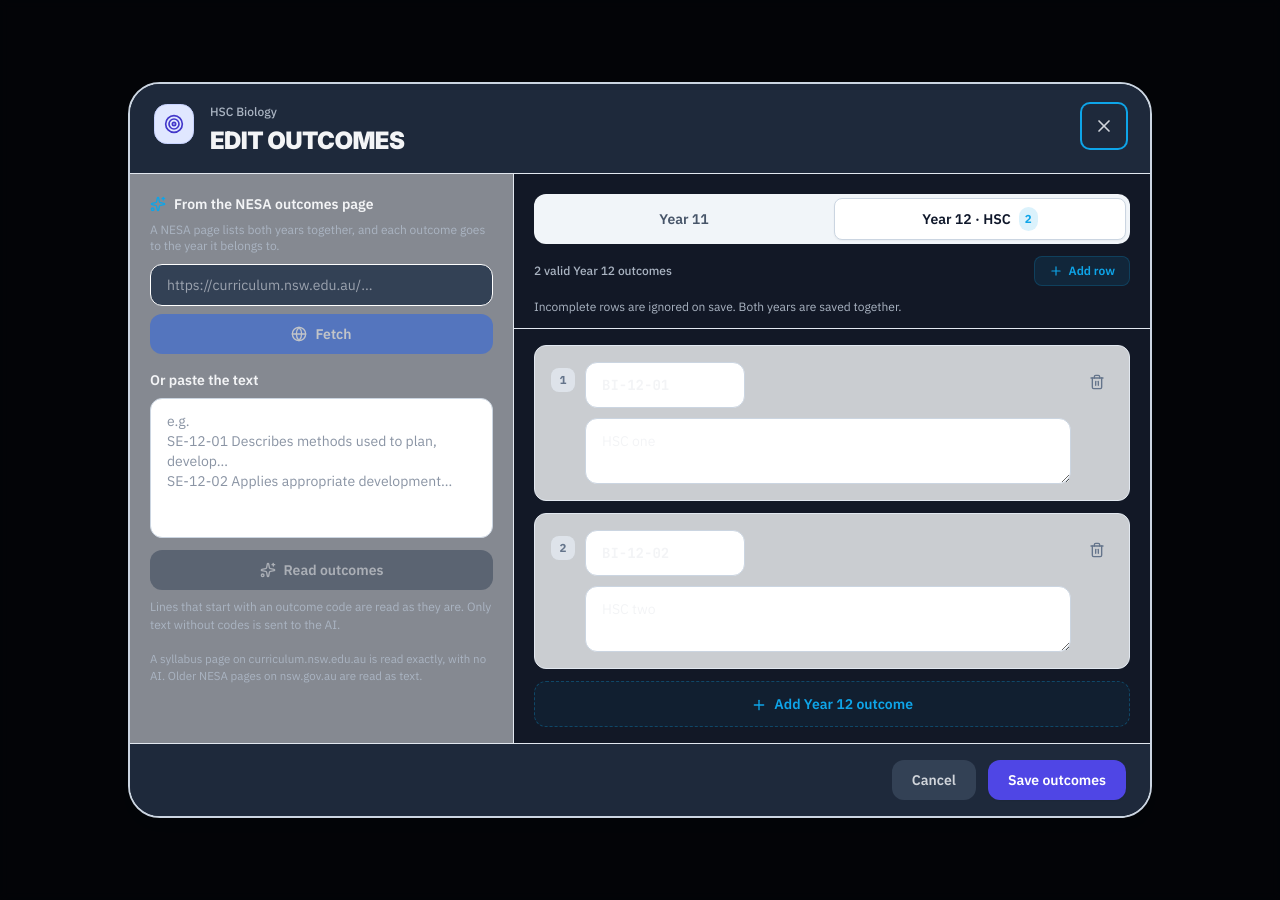
Test: editing both years of outcomes › rejects something that is not a web address before any request
Type "not a url" into the field named "Outcomes page URL" at [322, 285], box [150, 264, 493, 306]
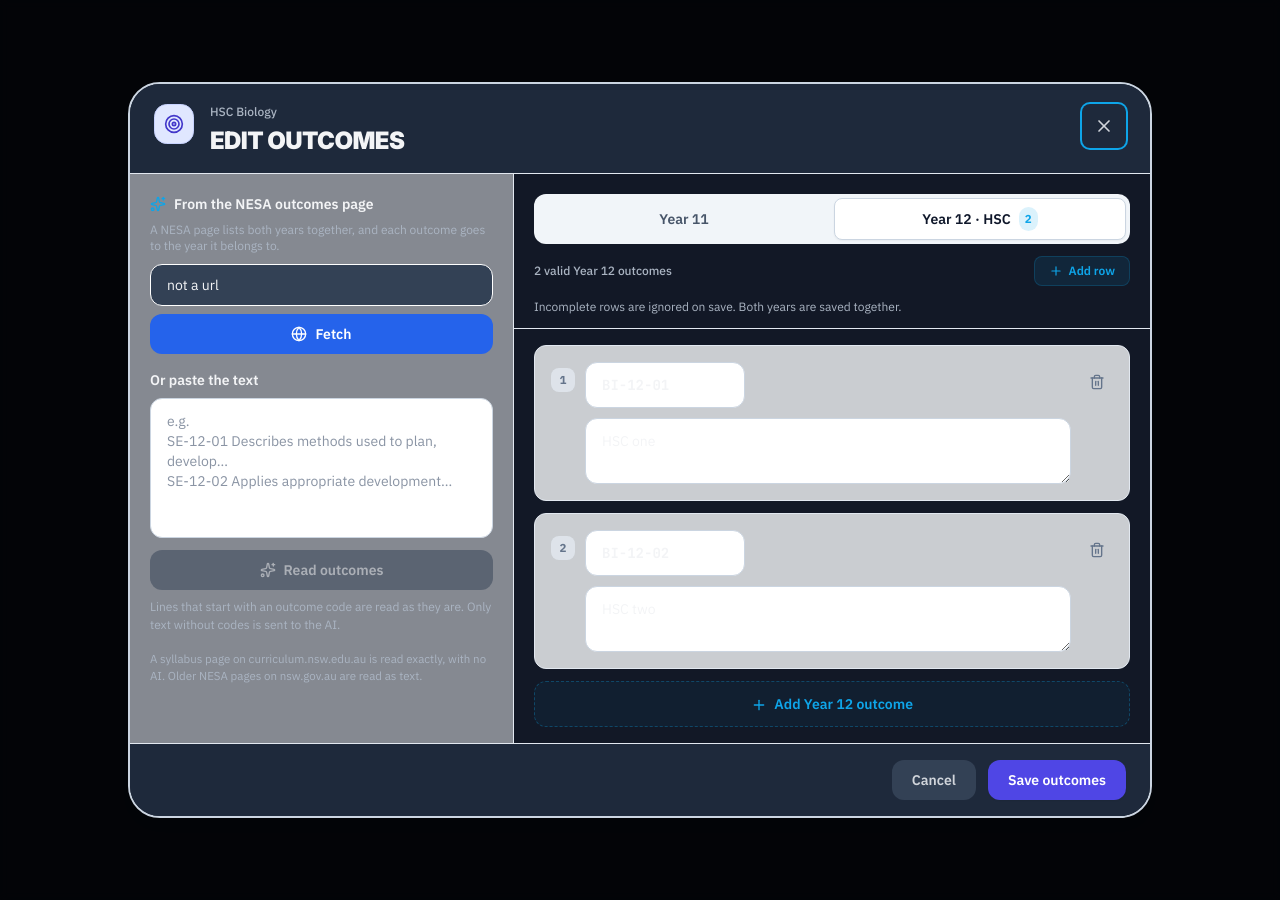
Click the button "Fetch" at [322, 334], box [150, 314, 493, 354]
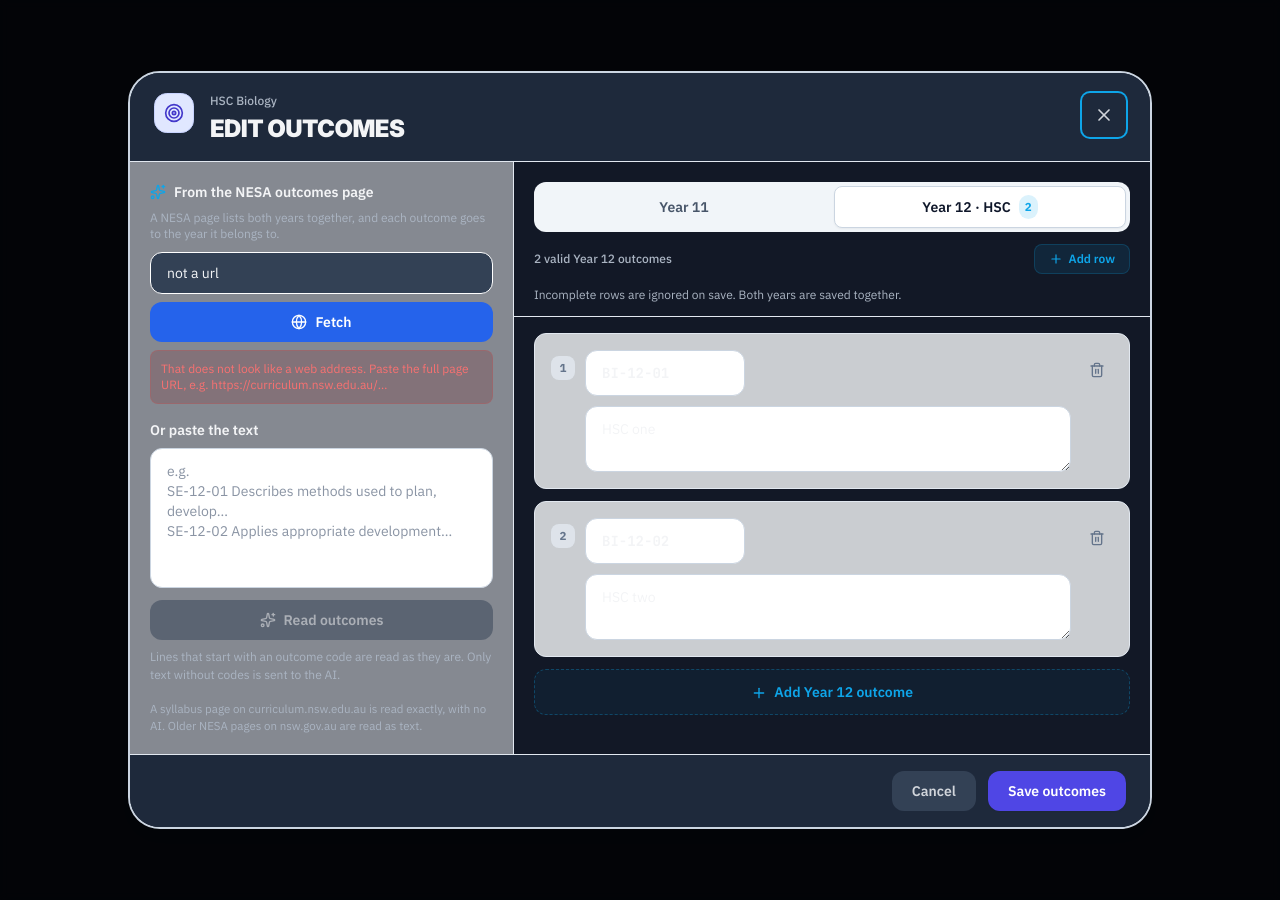
expect the text "does not look like a web address" is shown: met, box [161, 361, 469, 392]
